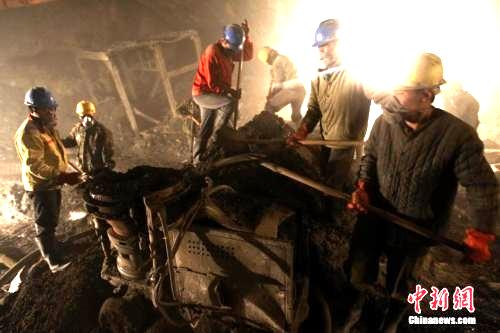helmet: (389, 51, 446, 118), (23, 85, 59, 125), (313, 18, 342, 63), (219, 23, 243, 53), (74, 99, 96, 128), (257, 47, 278, 67)
